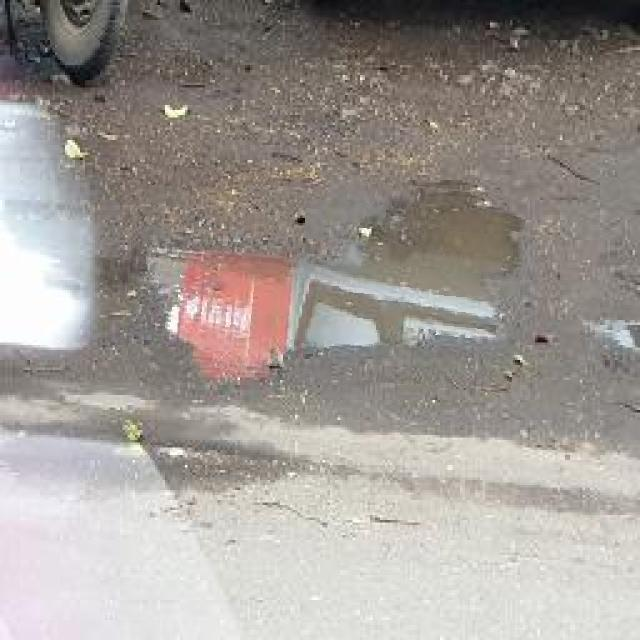puddle: (126, 171, 525, 386)
